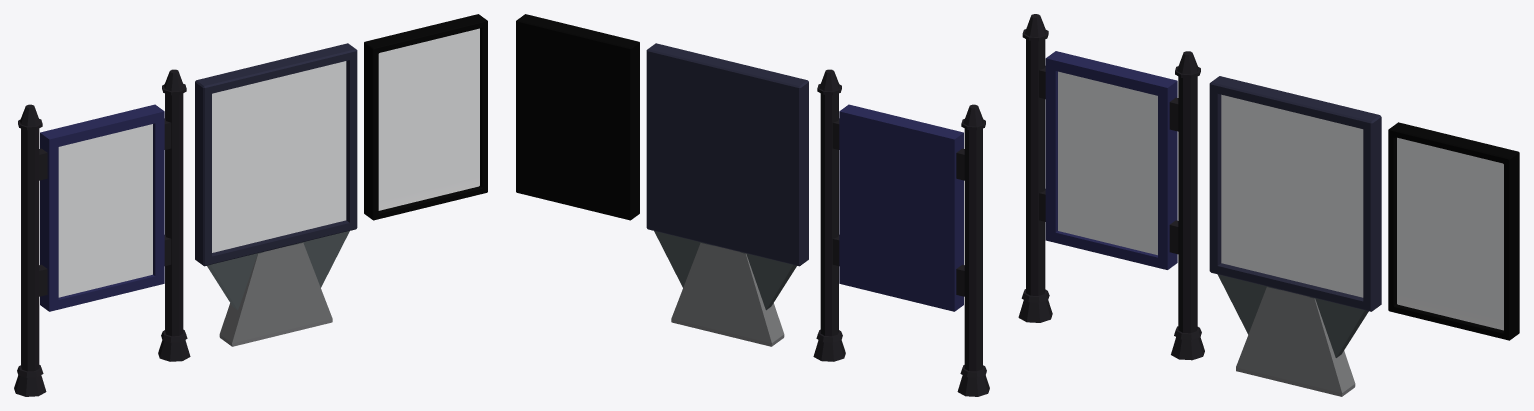
Rendered from Billboards.fbx.
3 renders of one model, left to right at view 1: azimuth 30°, elevation 25°; view 2: azimuth 150°, elevation 25°; view 3: azimuth 330°, elevation 25°, orthographic. The views are drawn at different scales.
Visible parts, largest first — view 1: Billboard_2, Billboard_1, Billboard_3; view 2: Billboard_2, Billboard_1, Billboard_3; view 3: Billboard_2, Billboard_1, Billboard_3.
Part boxes in pixels (x1,y1,x2,y2): Billboard_2: [195, 43, 357, 346]; Billboard_1: [14, 69, 190, 396]; Billboard_3: [364, 14, 487, 220]; Billboard_2: [646, 43, 808, 346]; Billboard_1: [813, 69, 989, 396]; Billboard_3: [516, 14, 639, 220]; Billboard_2: [1209, 76, 1381, 396]; Billboard_1: [1018, 14, 1204, 360]; Billboard_3: [1388, 122, 1519, 340].
Size of the model in its own units: 369 by 214 by 22.95.
